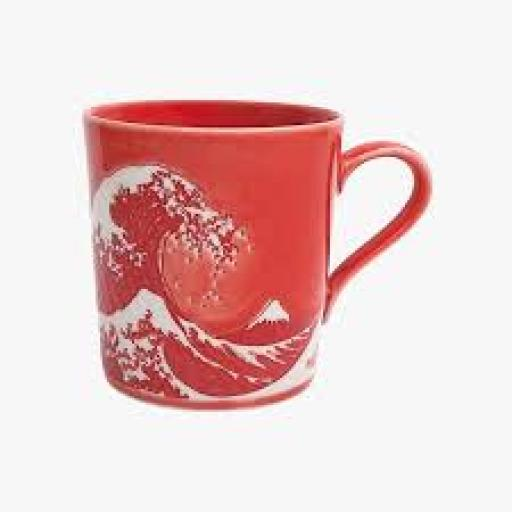red mug: (89, 100, 430, 407)
